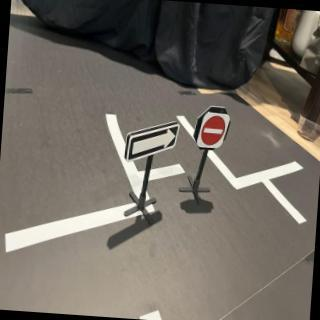sign_noentry: (195, 112, 233, 151)
sign_oneway_right: (123, 114, 182, 168)
